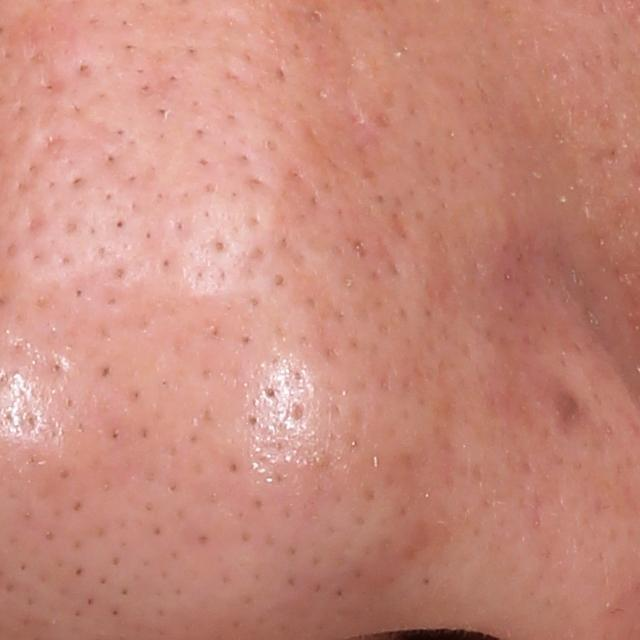comedo: (311, 8, 323, 23)
